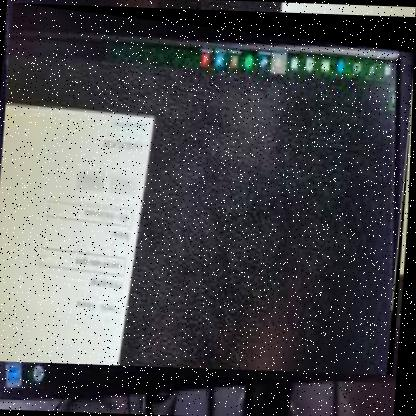fade: (0, 3, 415, 377)
